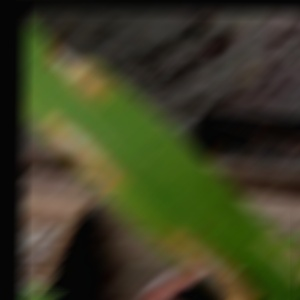Brown_Spot: (32, 105, 135, 200), (157, 222, 270, 300), (40, 25, 123, 102)
